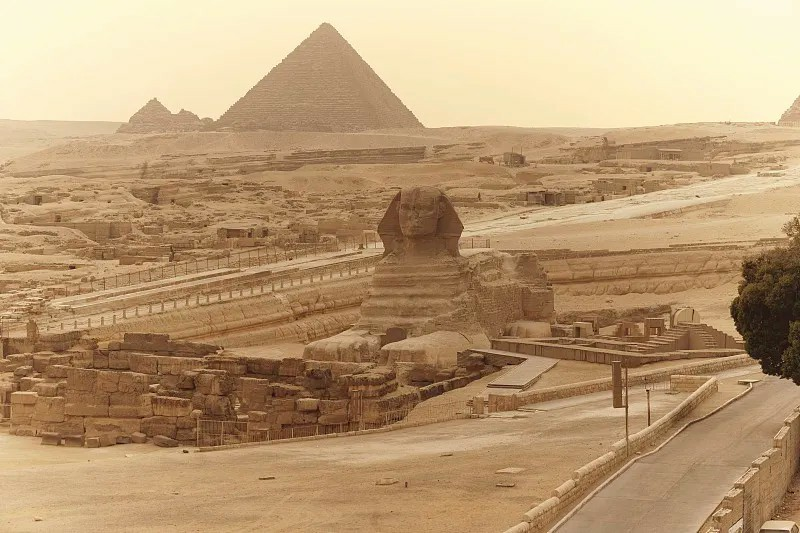Pyramid: (217, 20, 428, 129)
